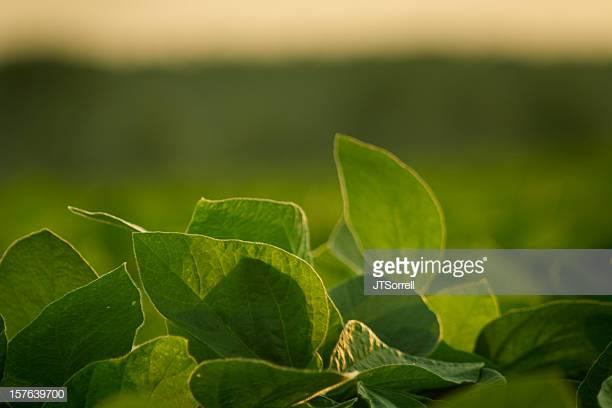Soyabean leaf: (131, 231, 331, 371), (3, 261, 145, 385), (1, 226, 104, 352)
